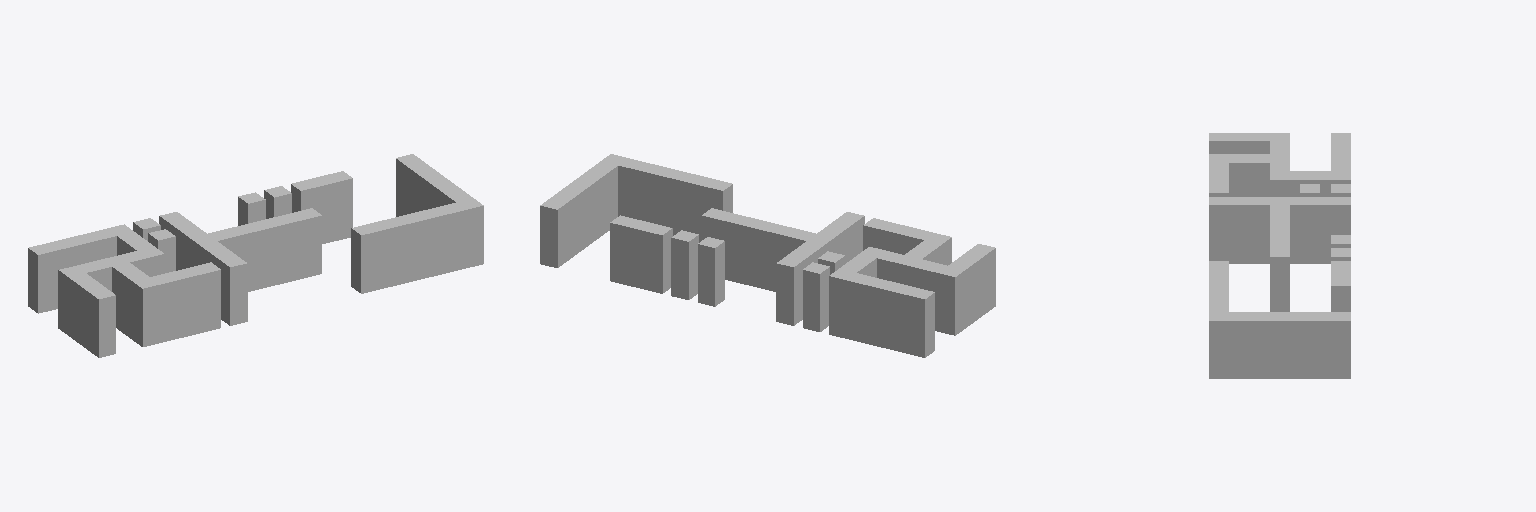
Rendered from ZudonText.obj.
3 renders of one model, left to right at view 1: azimuth 30°, elevation 25°; view 2: azimuth 150°, elevation 25°; view 3: azimuth 270°, elevation 25°, orthographic.
Visible parts, largest first — view 1: テキスト; view 2: テキスト; view 3: テキスト.
Part boxes in pixels (x1,y1,x2,y2): テキスト: (28,154,483,357); テキスト: (540,154,995,357); テキスト: (1209,133,1350,378).
Size of the model in its own units: 2.75 by 0.4 by 0.875.